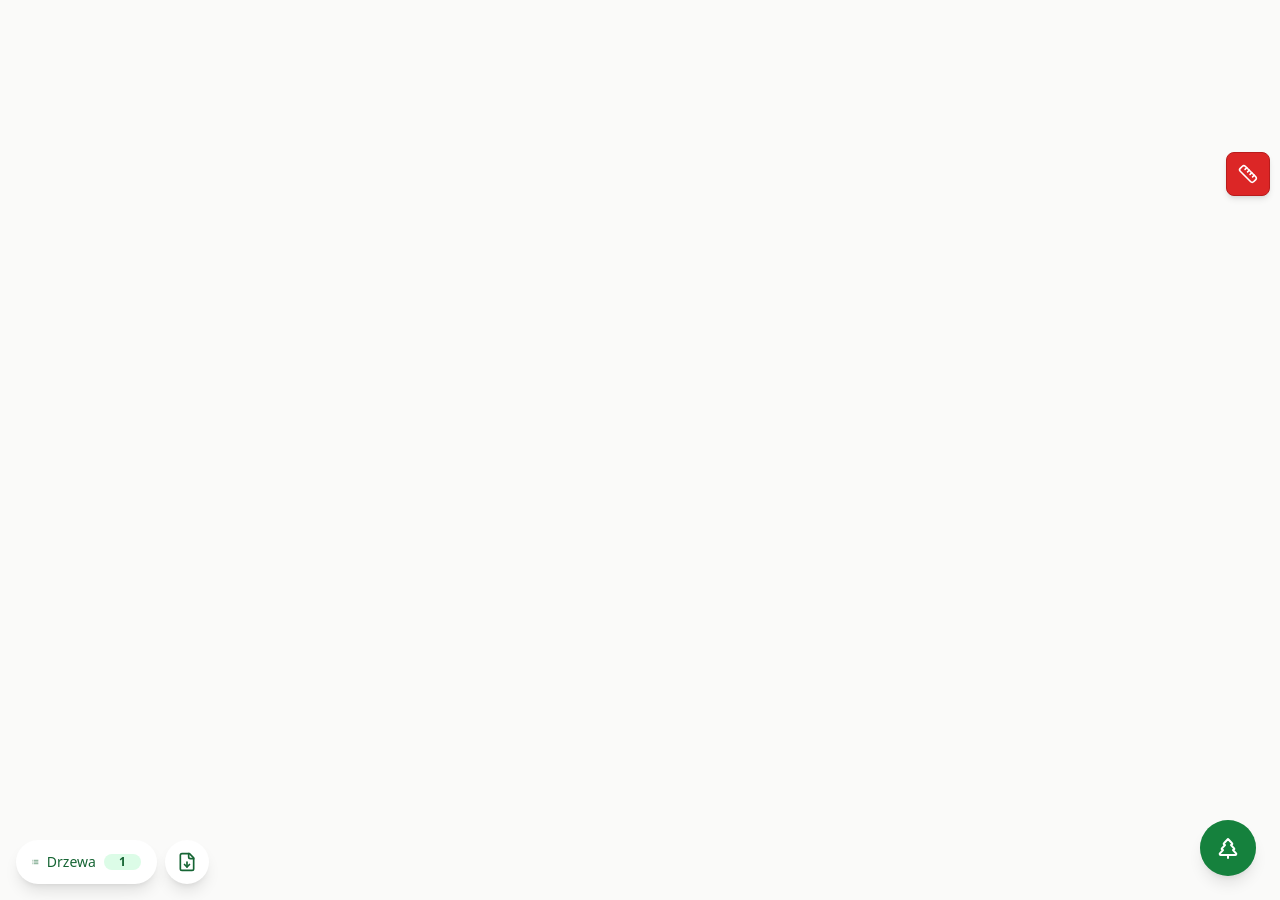
Scenario: MapPage — tree list and marker popup › should open the PDF export dialog when the export button is clicked
Click the button with test id "pdf-export-toggle": (187, 862) [165,840,209,884]
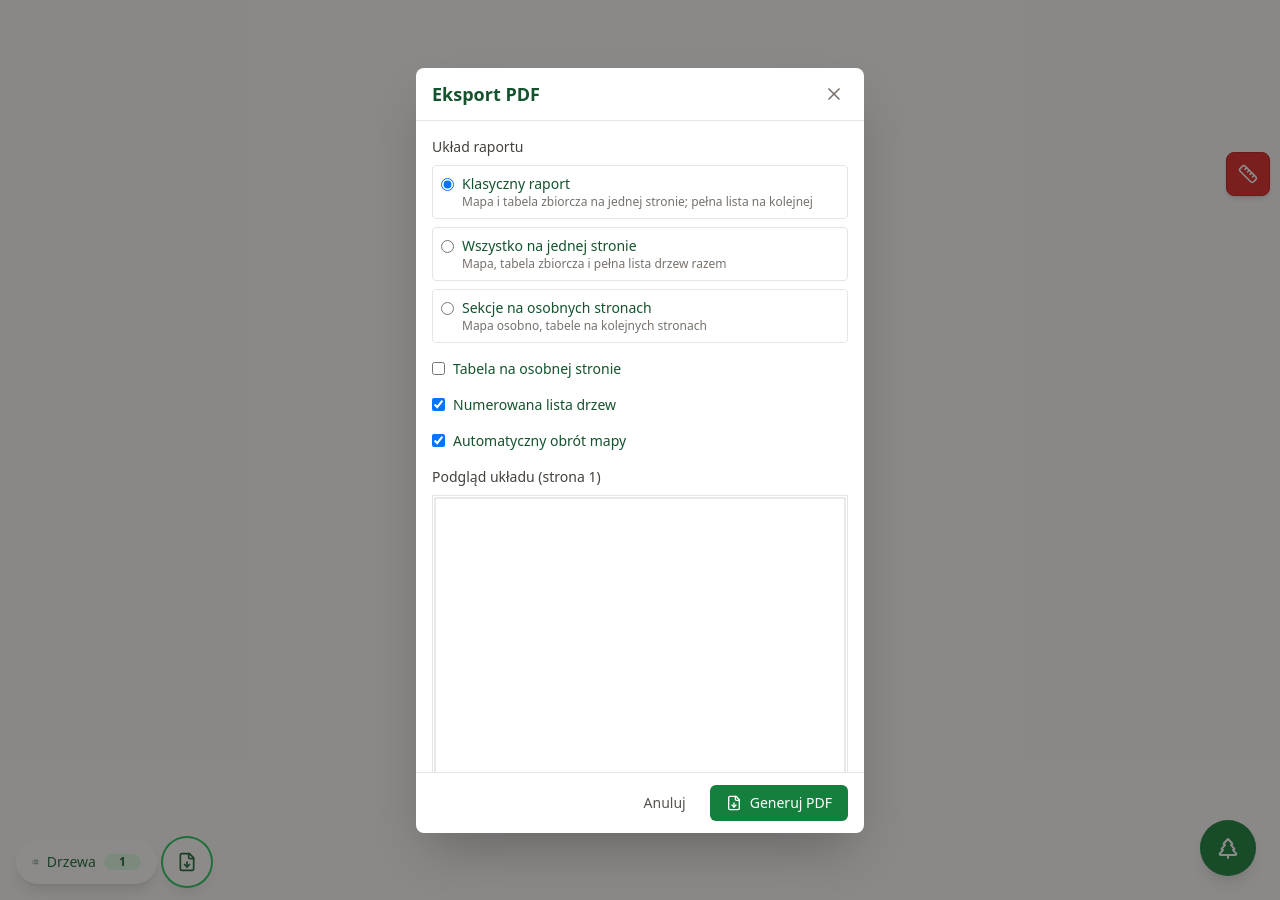
Now the element with test id "pdf-export-dialog" is shown
Now the heading "Eksport PDF" is shown, box [432,80,540,108]
